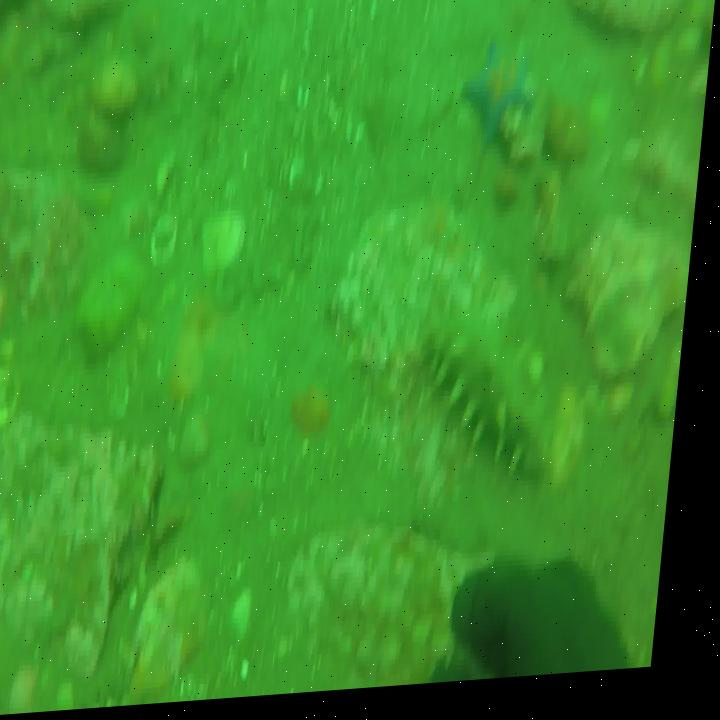holothurian: (424, 307, 574, 496)
starfish: (463, 45, 539, 151)
